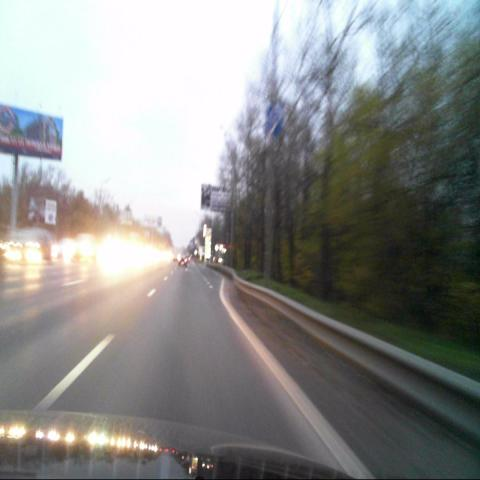5_15_3: (266, 107, 281, 136)
